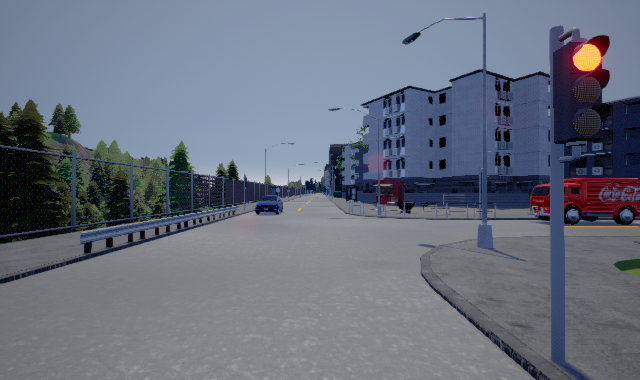traffic_light: (553, 27, 611, 163)
vehicle: (529, 178, 640, 226), (255, 195, 283, 215)
